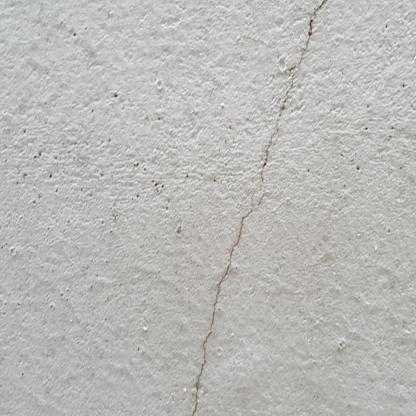crack: (193, 194, 253, 415), (261, 2, 327, 185)
